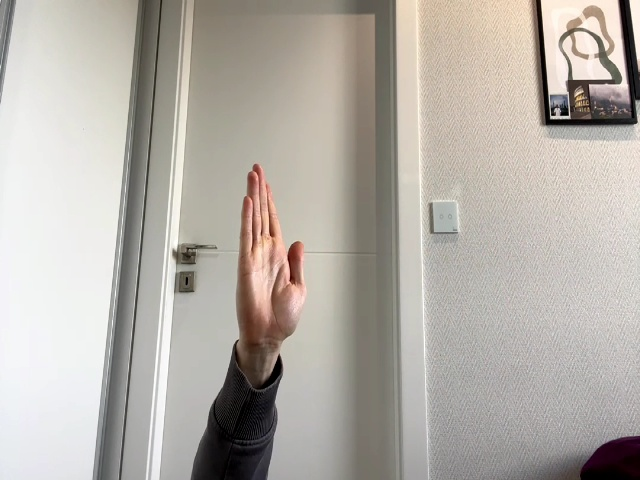SZ: (237, 164, 306, 348)
